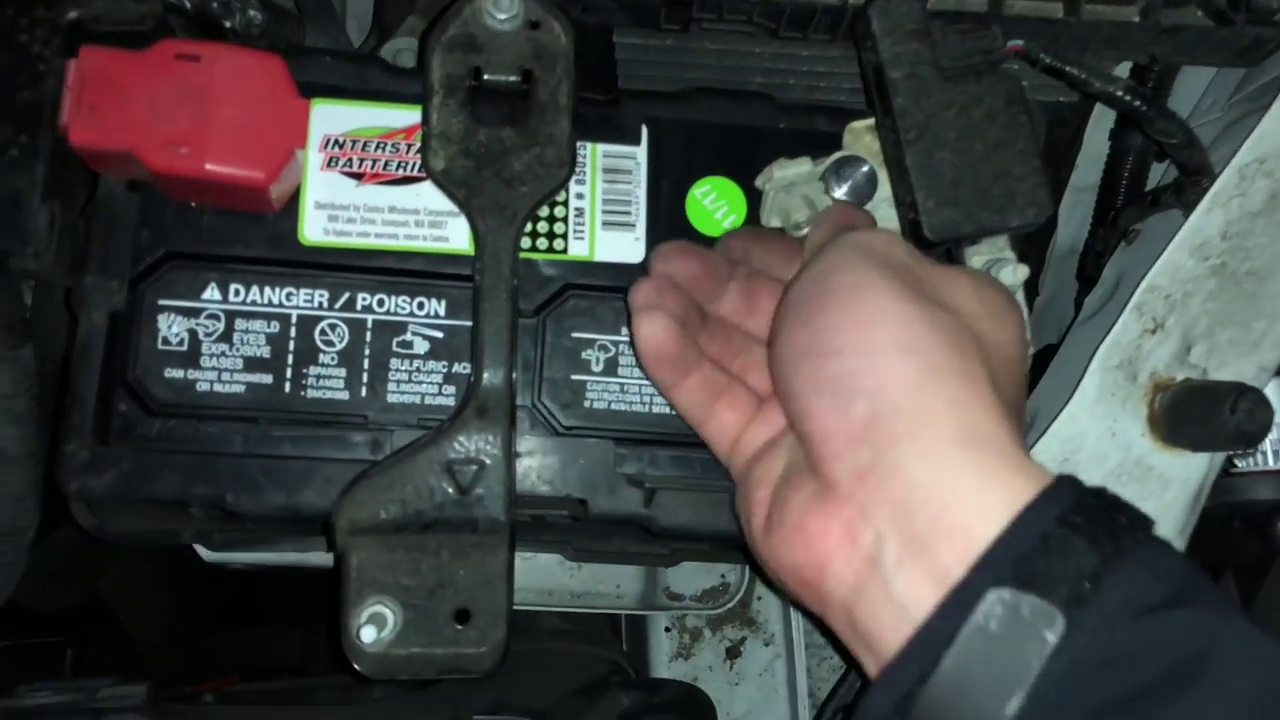battery: (103, 51, 906, 514)
neg_connected: (757, 123, 931, 256)
neg_touched: (717, 110, 929, 406)
pos_connected: (43, 39, 317, 214)
